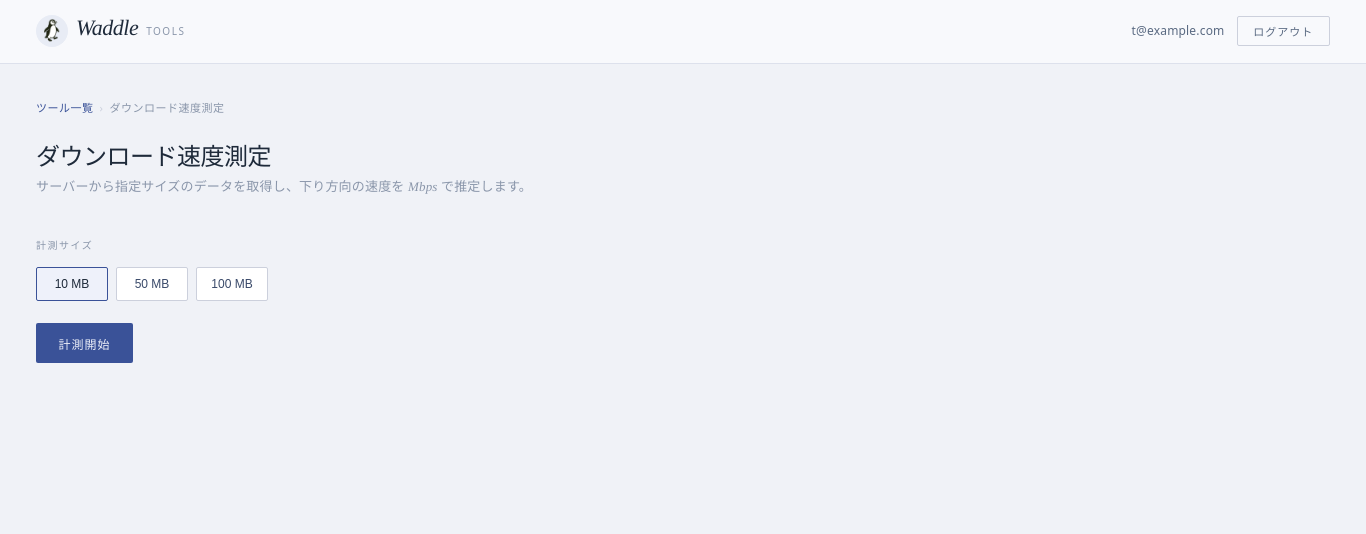
it: DownloadSpeedPage › 計測開始後に Mbps が表示される
Click the button "計測開始": (84, 343) [36,323,133,363]
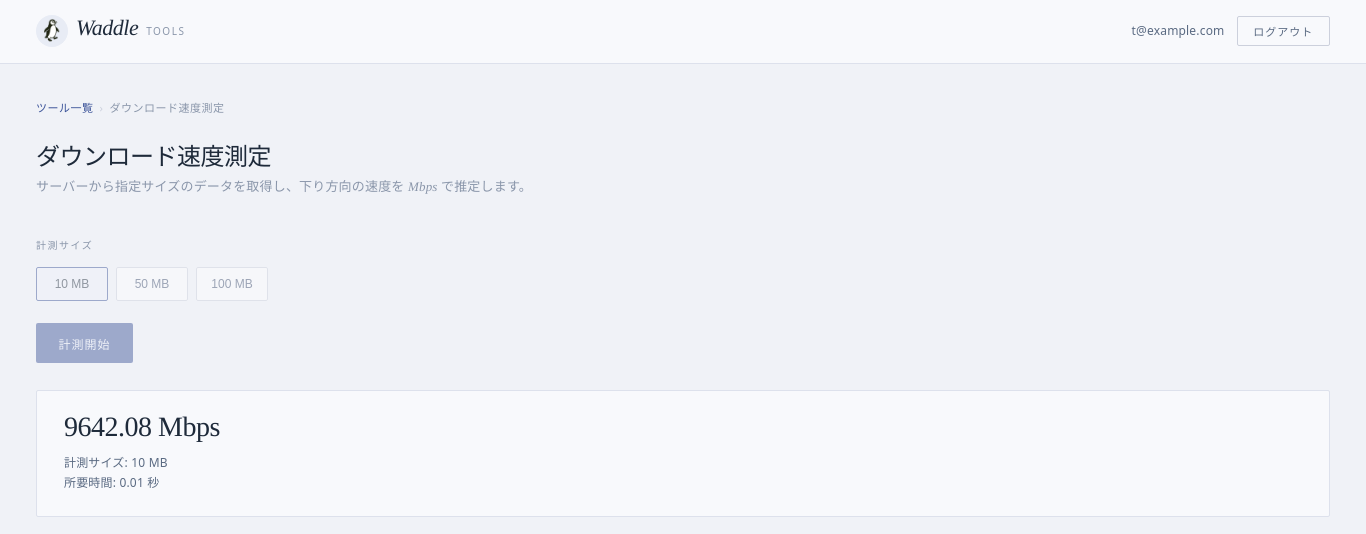
Now the text "9642.08 Mbps" is shown, box [64,411,220,442]
Now the text "計測サイズ: 10 MB" is shown, box [64,454,168,491]
Now the text "所要時間:" is shown, box [64,474,119,491]
